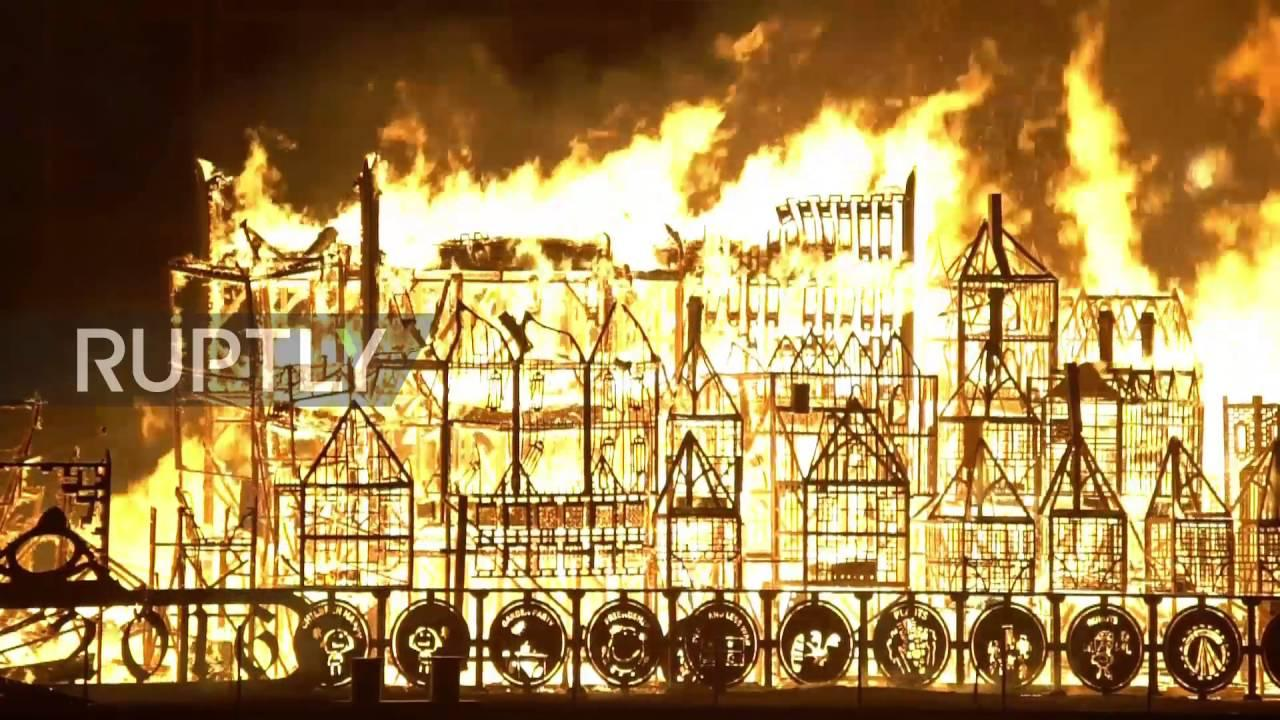Fire: (64, 83, 1280, 693)
